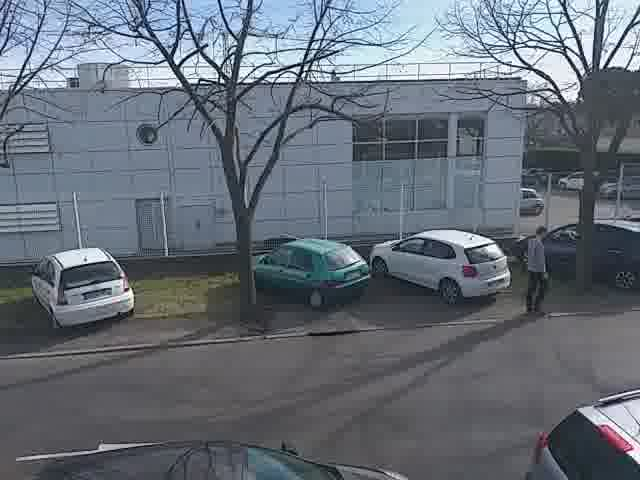persona: (518, 222, 558, 315)
